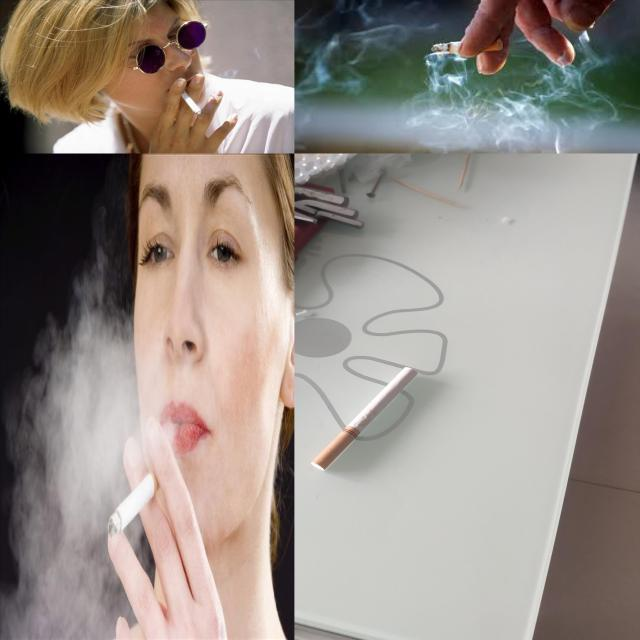smoking: (311, 367, 418, 471), (104, 464, 164, 538), (432, 39, 504, 54), (176, 84, 202, 115)
